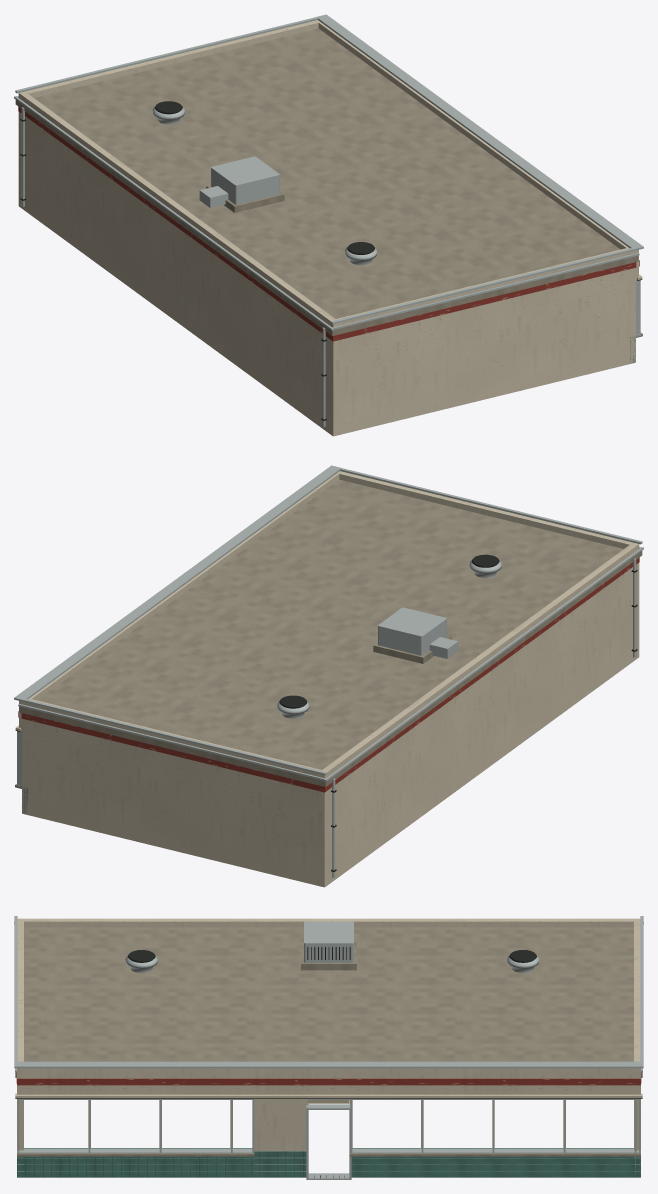
The model's file is SM_Mesa_Shell.glb.
3 views of the same model, one above another, from view 1: azimuth 30°, elevation 25°; view 2: azimuth 150°, elevation 25°; view 3: azimuth 270°, elevation 25° (orthographic).
Parts seen in each view (by area): view 1: SM_Mesa_Shell; view 2: SM_Mesa_Shell; view 3: SM_Mesa_Shell.
Part boxes in pixels (x1,y1,x2,y2): SM_Mesa_Shell: (14,14,643,436); SM_Mesa_Shell: (14,465,643,887); SM_Mesa_Shell: (14,916,643,1179).
Size of the model in its own units: 10.36 by 4.21 by 18.17.
7 materials, 4 textured.
